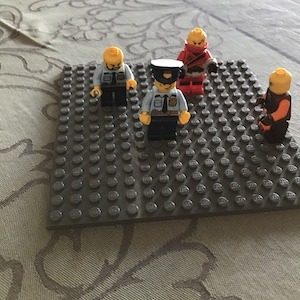Lego: (138, 57, 190, 139), (252, 68, 294, 142), (171, 28, 217, 93), (89, 46, 138, 107)
